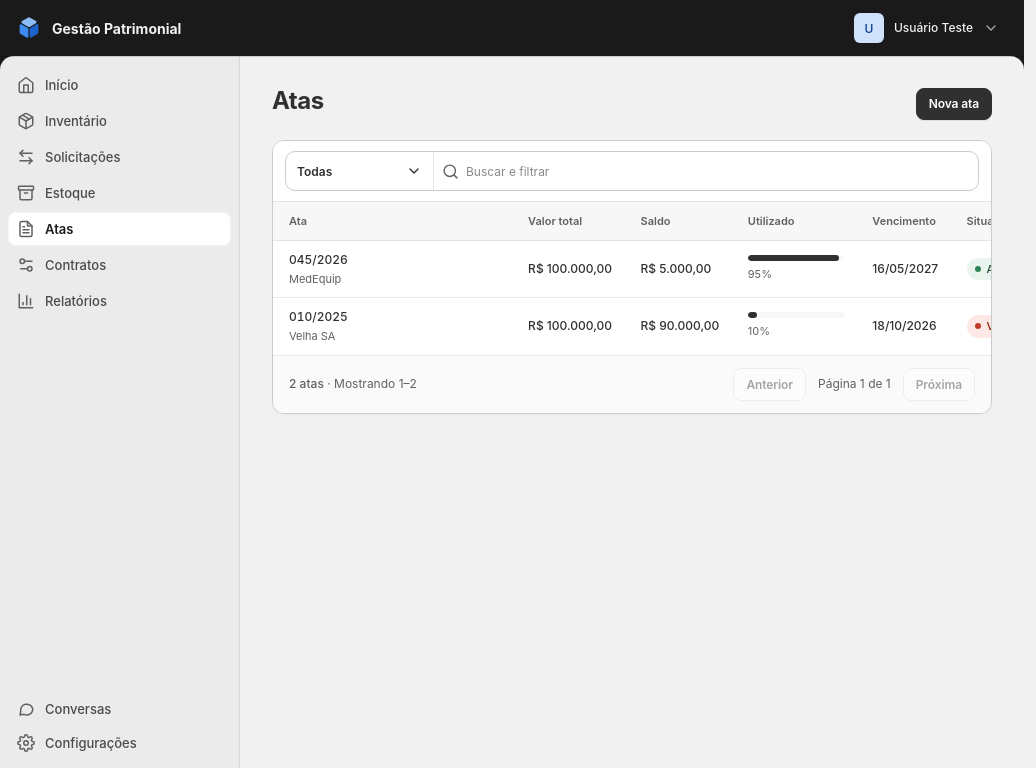
Test: Atas › lista com situação e saldo baixo e filtra pela visualização
Expected: the heading "Atas" is shown, [272,88,324,115]
Expected: the link "045/2026" is shown, [289,252,348,266]
Click the button "Todas" at point(360, 171), box [286,152,433,190]
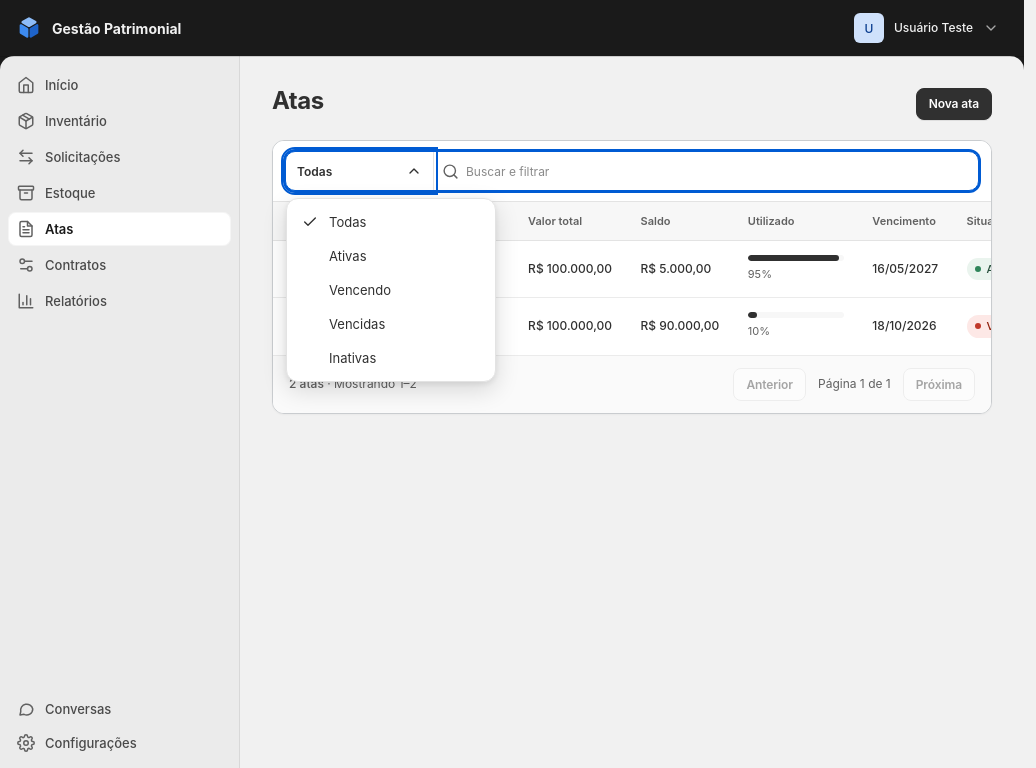
Click the menu item "Vencidas" at point(391, 324), box [293,307,489,341]
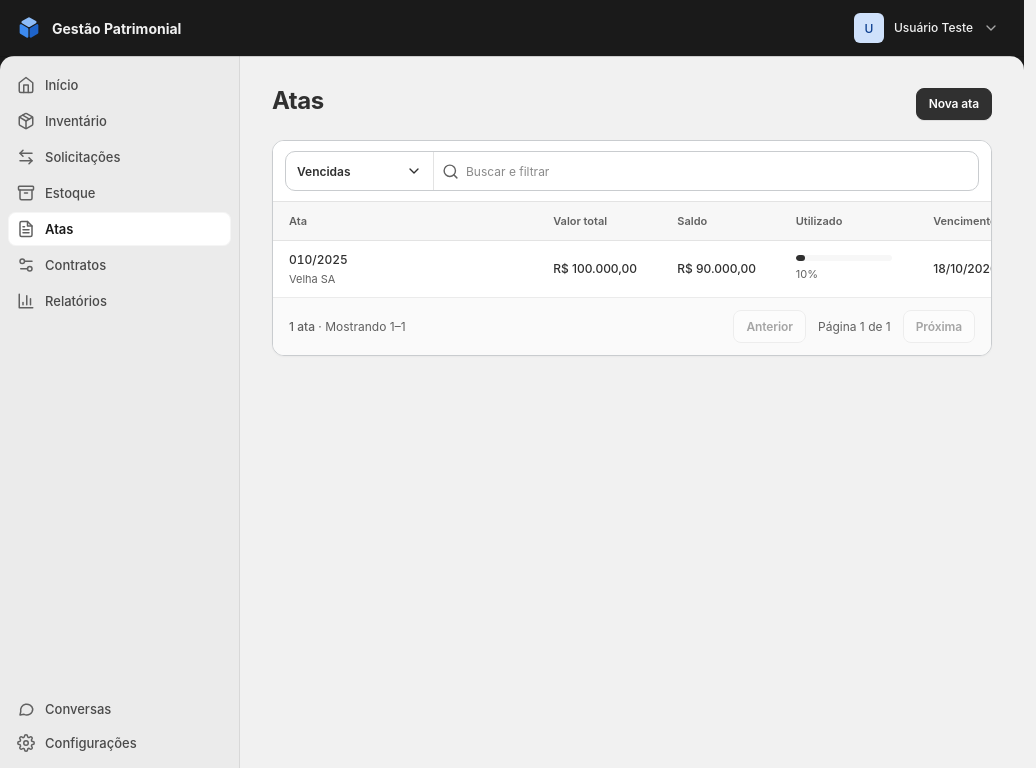
Expected: the link "010/2025" is shown, [289,252,348,266]
Expected: the link "045/2026" is gone
